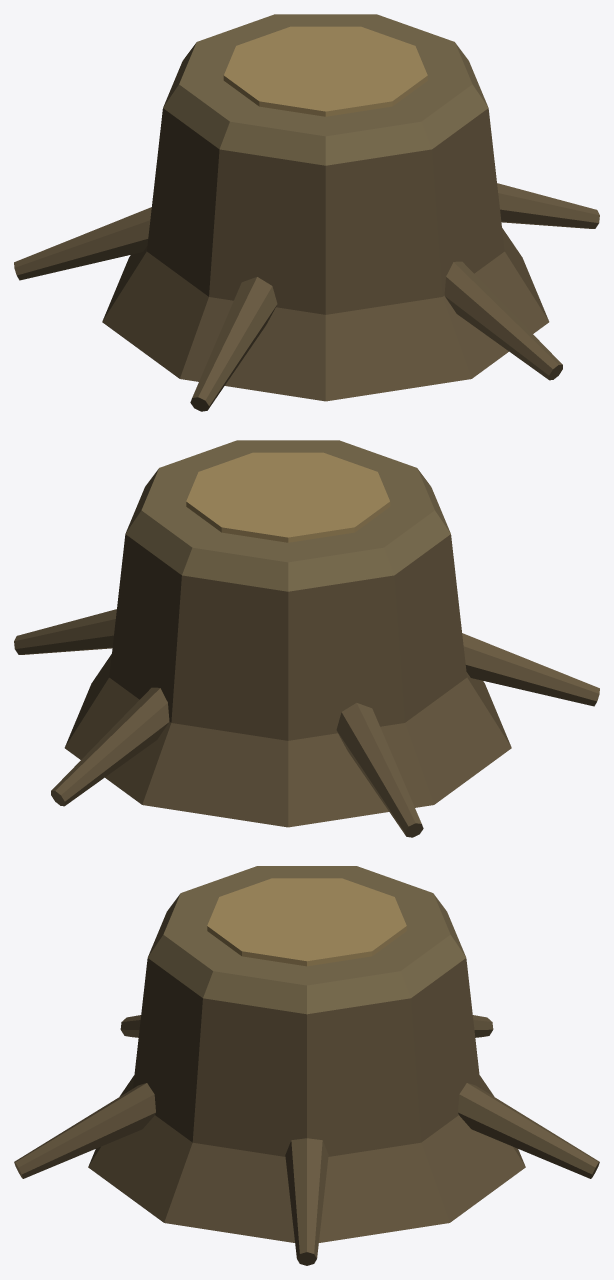
File: stump.glb
3 renders of one model, top to bottom at view 1: azimuth 30°, elevation 25°; view 2: azimuth 150°, elevation 25°; view 3: azimuth 270°, elevation 25°, orthographic. The views are drawn at different scales.
Parts seen in each view (by area): view 1: stump__body; view 2: stump__body; view 3: stump__body.
Part boxes in pixels (left/top/right/bottom): stump__body: left=14, top=14, right=599, bottom=411; stump__body: left=14, top=440, right=599, bottom=837; stump__body: left=14, top=866, right=599, bottom=1265.
Size of the model in its own units: 1.38 by 0.635 by 1.45.
